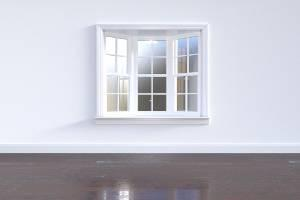window: (96, 24, 209, 126)
